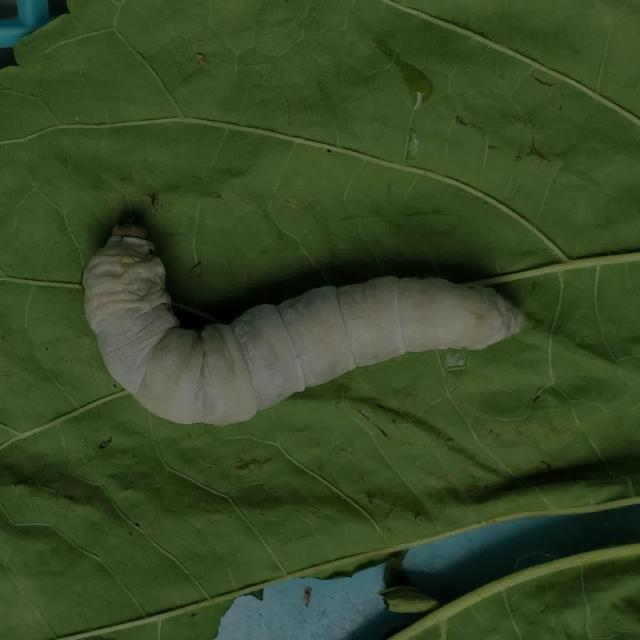Grasserie: (52, 180, 557, 448)
